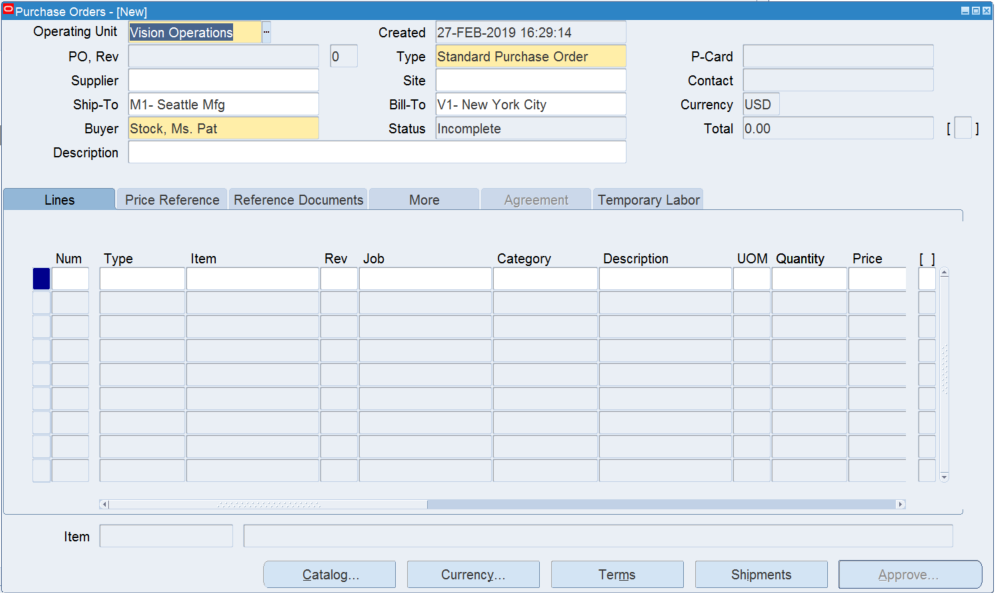BUTTON: (835, 557, 985, 592), (405, 556, 543, 591), (693, 556, 831, 591), (550, 557, 688, 591), (261, 557, 398, 589)
COLUMN: (358, 249, 493, 480), (186, 249, 320, 480), (600, 249, 732, 480), (492, 249, 598, 482), (99, 249, 186, 481), (770, 249, 847, 482), (847, 252, 918, 481), (51, 249, 99, 479), (318, 250, 359, 482), (732, 250, 770, 482), (917, 251, 936, 479)
HEADER_ROW: (51, 249, 936, 267)
IMAGEBUTTON: (982, 6, 991, 15), (961, 6, 969, 16), (972, 6, 980, 14)
ROW: (49, 267, 936, 292), (50, 363, 937, 388), (50, 388, 937, 413), (50, 412, 937, 437), (50, 434, 937, 459), (50, 455, 937, 480), (49, 340, 936, 365), (49, 315, 936, 340), (49, 291, 936, 316)
SCROLLBAR_HORIZONTAL: (101, 499, 908, 511)
SCROLLBAR_HORIZONTAL_BAR: (111, 500, 430, 512)
SCROLLBAR_HORIZONTAL_HANDLE_LEFT: (99, 499, 110, 513)
SCROLLBAR_HORIZONTAL_HANDLE_RIGHT: (895, 499, 910, 512)
SCROLLBAR_VERTICAL: (939, 267, 948, 482)
SCROLLBAR_VERTICAL_BAR: (939, 276, 949, 473)
SCROLLBAR_VERTICAL_HANDLE_DOWN: (940, 473, 950, 483)
SCROLLBAR_VERTICAL_HANDLE_UP: (939, 267, 948, 277)
TAB: (227, 186, 369, 212), (114, 184, 229, 214), (369, 185, 480, 211), (479, 185, 594, 210), (596, 186, 704, 212), (2, 187, 118, 211)
TABLE: (32, 244, 939, 485)
TEXTBOX: (242, 522, 956, 550), (126, 138, 627, 164), (435, 19, 629, 46), (742, 113, 936, 140), (434, 91, 628, 117), (435, 44, 629, 70), (741, 43, 935, 68), (127, 43, 320, 68), (742, 68, 935, 93), (128, 91, 320, 116), (128, 67, 319, 92), (433, 115, 628, 139), (435, 68, 629, 92), (127, 115, 320, 139), (98, 523, 235, 548), (128, 19, 262, 44), (742, 92, 782, 118), (329, 42, 360, 70), (953, 114, 973, 140)
